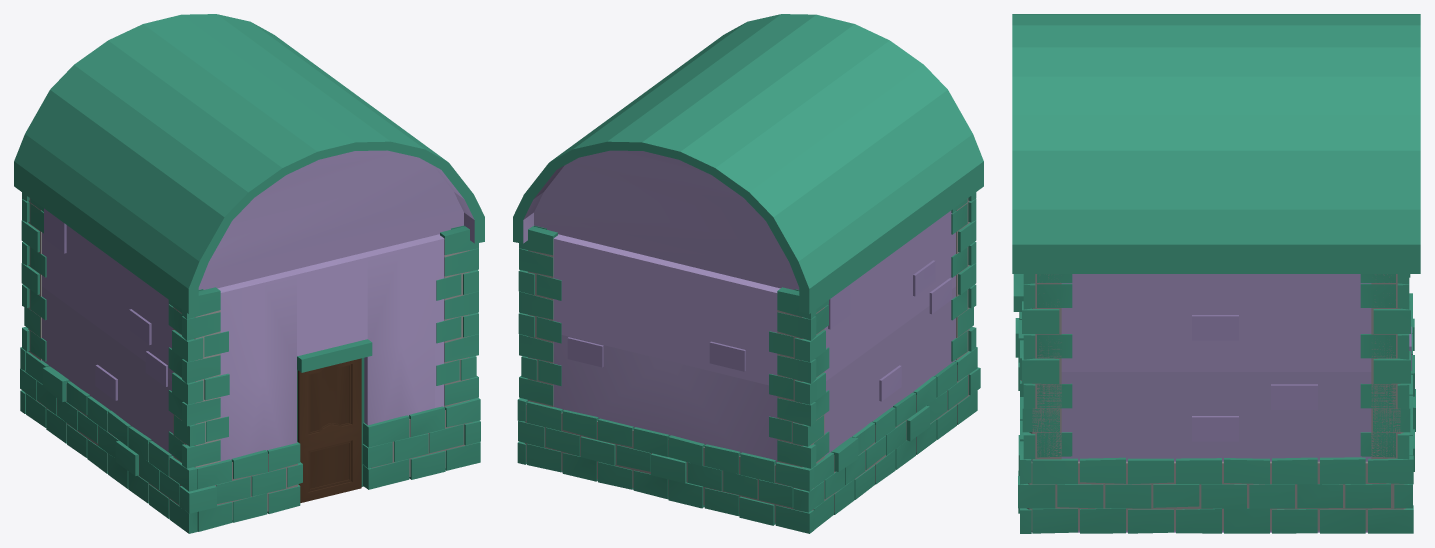
File: house-5.glb
3 views of the same model, side by side, from view 1: azimuth 30°, elevation 25°; view 2: azimuth 150°, elevation 25°; view 3: azimuth 270°, elevation 25° (orthographic). The views are drawn at different scales.
Parts seen in each view (by area): view 1: house-5; view 2: house-5; view 3: house-5.
Part boxes in pixels (bbox=[...]): house-5: bbox=[14, 14, 484, 533]; house-5: bbox=[513, 14, 983, 533]; house-5: bbox=[1012, 14, 1420, 533].
Size of the model in its own units: 6.87 by 7.85 by 7.
